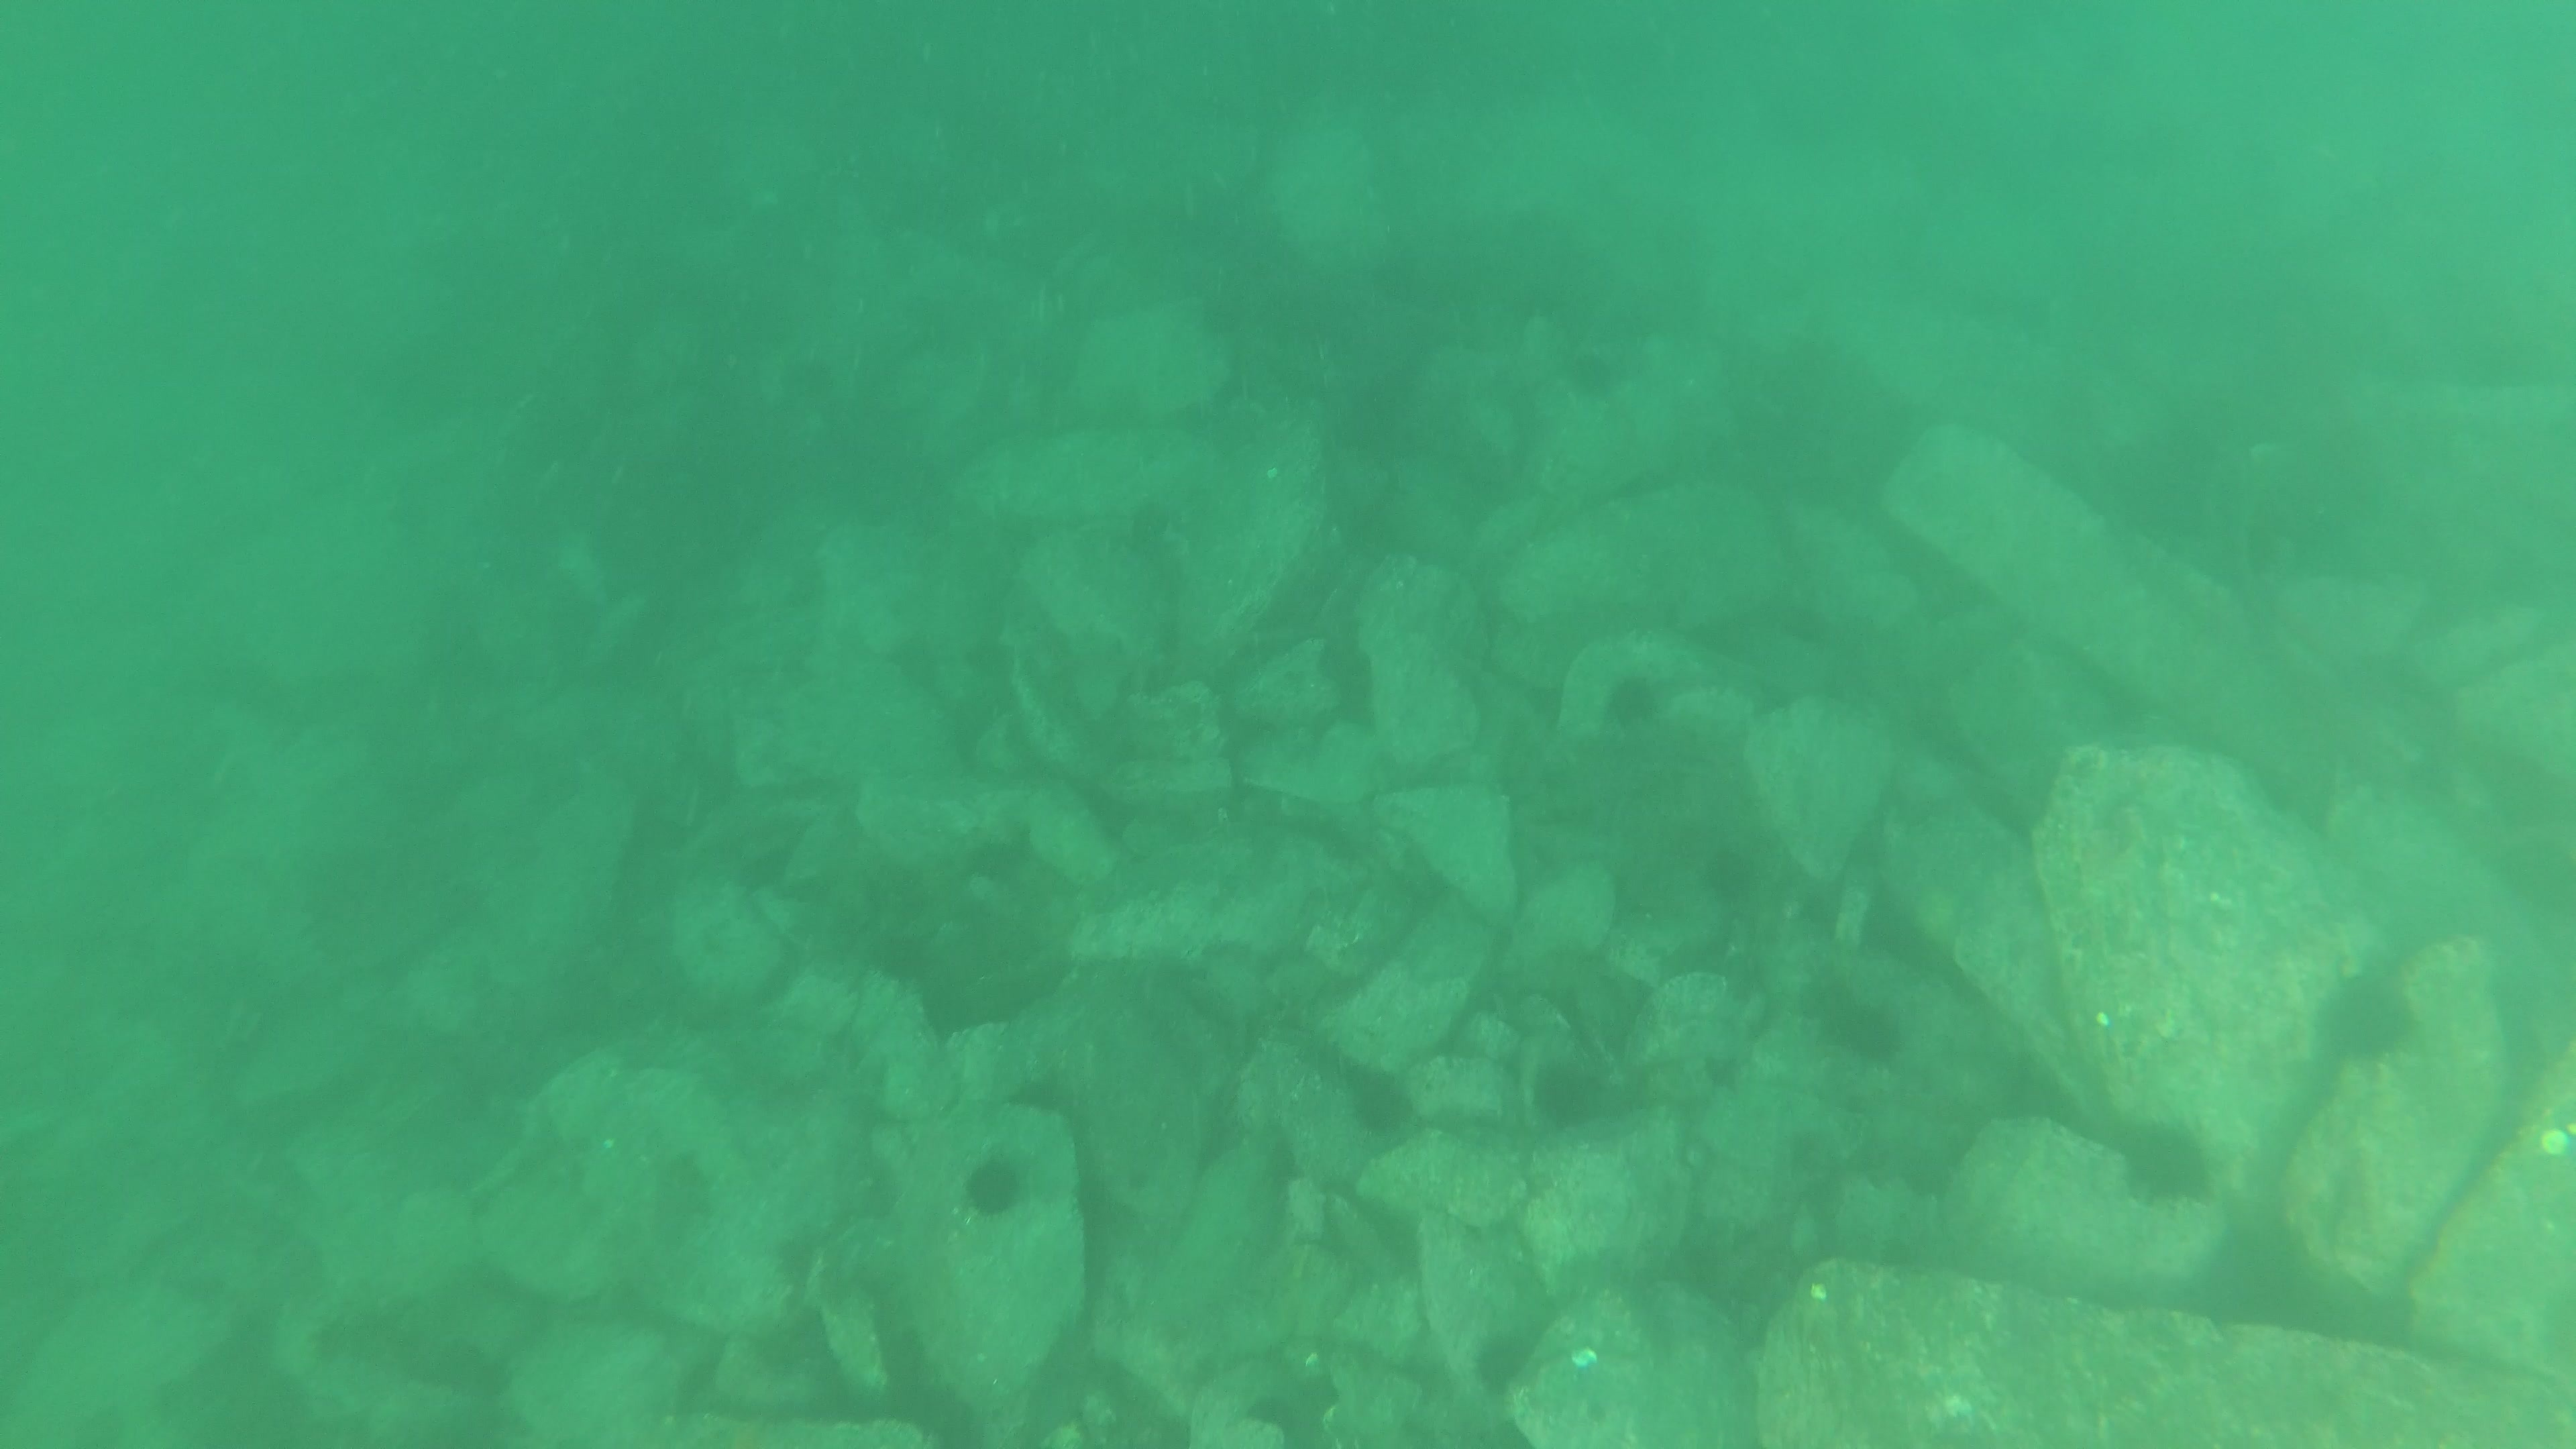echinus: (2312, 964, 2422, 1072), (2111, 1113, 2219, 1214), (1806, 978, 1913, 1072), (1525, 1049, 1610, 1136), (1338, 1058, 1421, 1145), (955, 1146, 1033, 1226), (1467, 1322, 1543, 1401), (1693, 835, 1767, 915), (1596, 665, 1672, 740), (1573, 357, 1622, 409)
